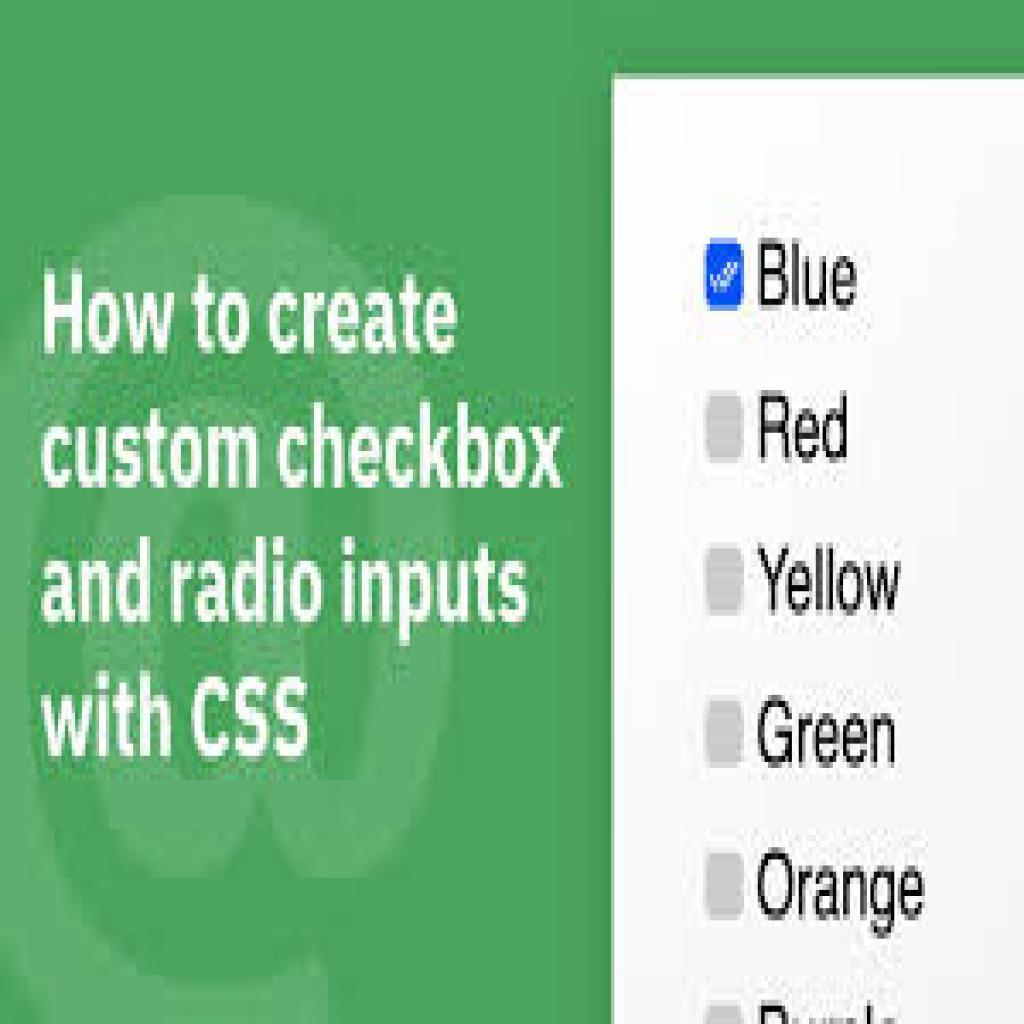checkbox: (704, 698, 747, 770), (706, 850, 749, 920), (705, 544, 746, 617), (706, 238, 745, 311), (706, 395, 747, 464)
label: (756, 845, 929, 939), (754, 539, 907, 620), (755, 692, 899, 778), (759, 233, 862, 314), (755, 385, 855, 468)
